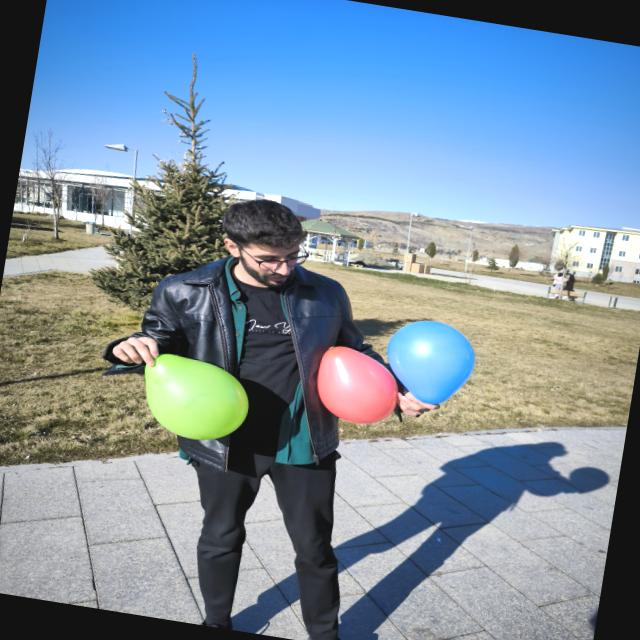balloon: (145, 354, 248, 440), (387, 321, 474, 404), (317, 347, 397, 424)
